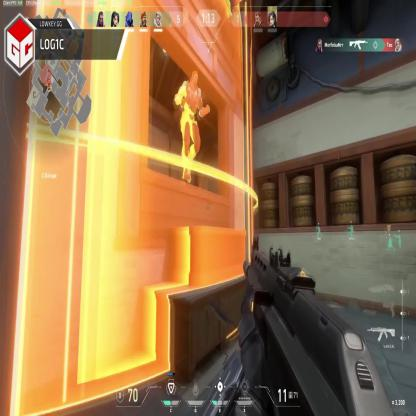enemy: (173, 69, 210, 182)
enemy_head: (190, 70, 198, 88)
